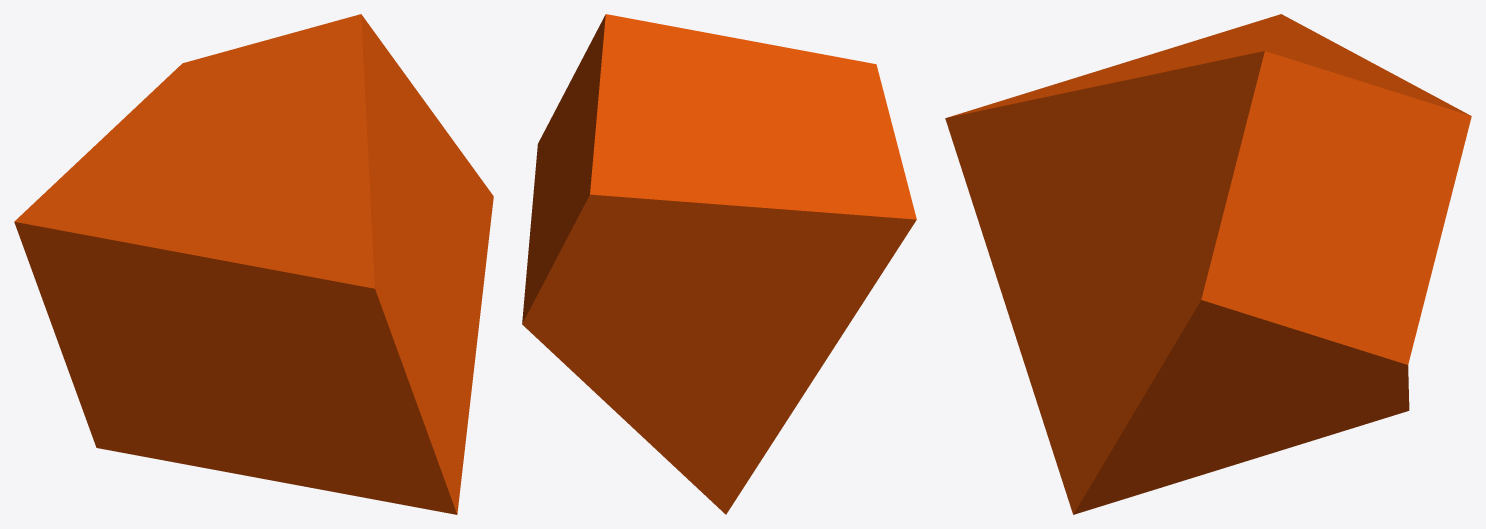
Rendered from tree-autumn-leaves-020.glb.
3 views of the same model, side by side, from view 1: azimuth 30°, elevation 25°; view 2: azimuth 150°, elevation 25°; view 3: azimuth 270°, elevation 25° (orthographic). The views are drawn at different scales.
Visible parts, largest first — view 1: Cube.026_349; view 2: Cube.026_349; view 3: Cube.026_349.
Part boxes in pixels (bbox=[...]): Cube.026_349: bbox=[14, 14, 493, 514]; Cube.026_349: bbox=[522, 14, 916, 514]; Cube.026_349: bbox=[945, 14, 1471, 514].
Size of the model in its own units: 0.8199 by 0.7732 by 0.8001.
